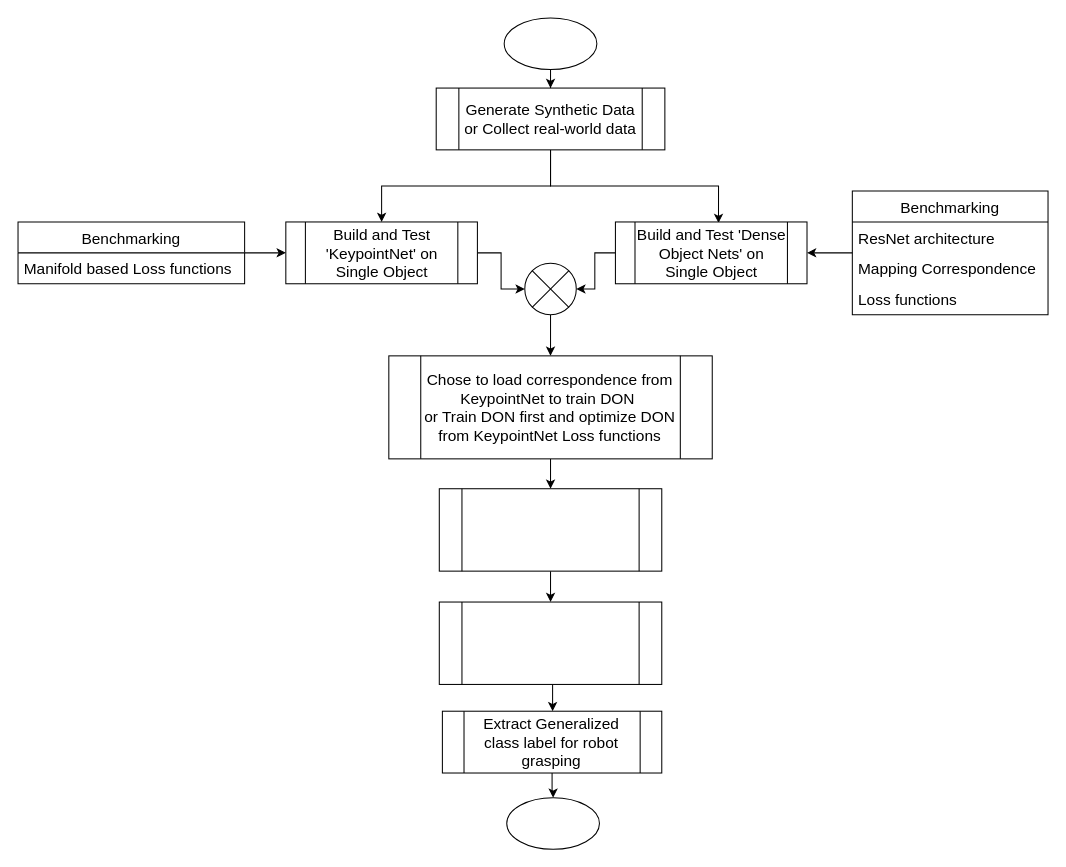
The diagram is 1066 pixels wide and 867 high, and some of its shapes have lost their labels. The shapes that lost their labels are listed below. From the top down, each one's box as (x1, y1, x2, y2) in pixels, then its label:
(503, 17, 597, 70): Start
(438, 488, 662, 571): Extend DON and KeypointNet for multi-object scenes
(438, 601, 662, 684): End-to-End training on 5 objects to be generalized
(506, 797, 599, 849): Stop
